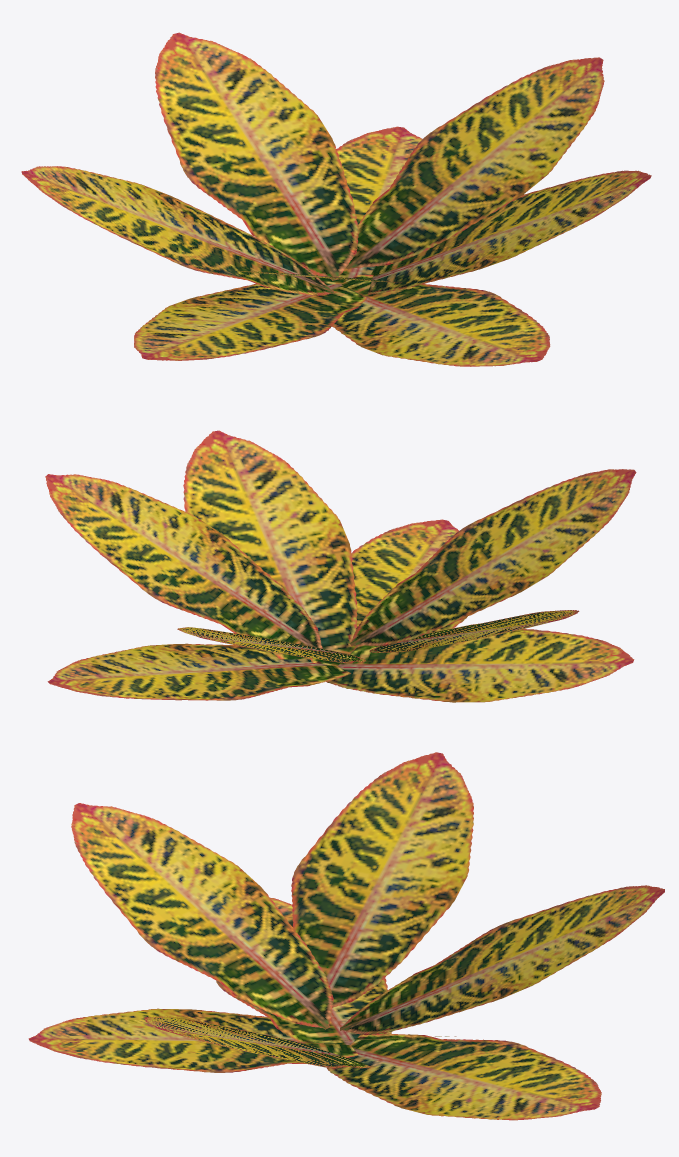
Rendered from plant_tropic_large_0.glb.
3 renders of one model, top to bottom at view 1: azimuth 30°, elevation 25°; view 2: azimuth 150°, elevation 25°; view 3: azimuth 270°, elevation 25°, orthographic. The views are drawn at different scales.
Visible parts, largest first — view 1: plant_tropic_large_0; view 2: plant_tropic_large_0; view 3: plant_tropic_large_0.
Boxes of the visible parts, left/top/right/bottom form: plant_tropic_large_0: left=21, top=32, right=651, bottom=366; plant_tropic_large_0: left=45, top=430, right=636, bottom=702; plant_tropic_large_0: left=28, top=752, right=664, bottom=1120.
Size of the model in its own units: 2.33 by 0.5935 by 2.14.
Materials: 1 (1 with a texture image).
